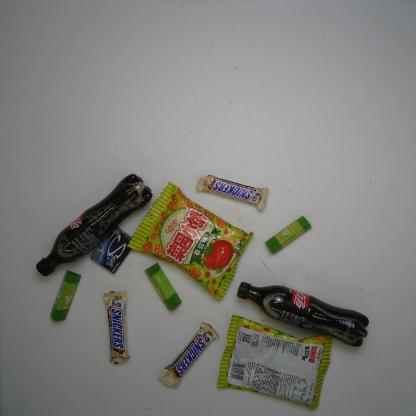Chocolate: (156, 321, 220, 390), (195, 174, 269, 212), (103, 289, 131, 367)
Drink: (35, 173, 154, 277), (235, 280, 369, 348)
Gum: (90, 226, 134, 274)
Puffed Food: (126, 179, 254, 302), (216, 314, 334, 409)
Stationery: (144, 261, 183, 312), (264, 215, 312, 256), (50, 269, 82, 322)
